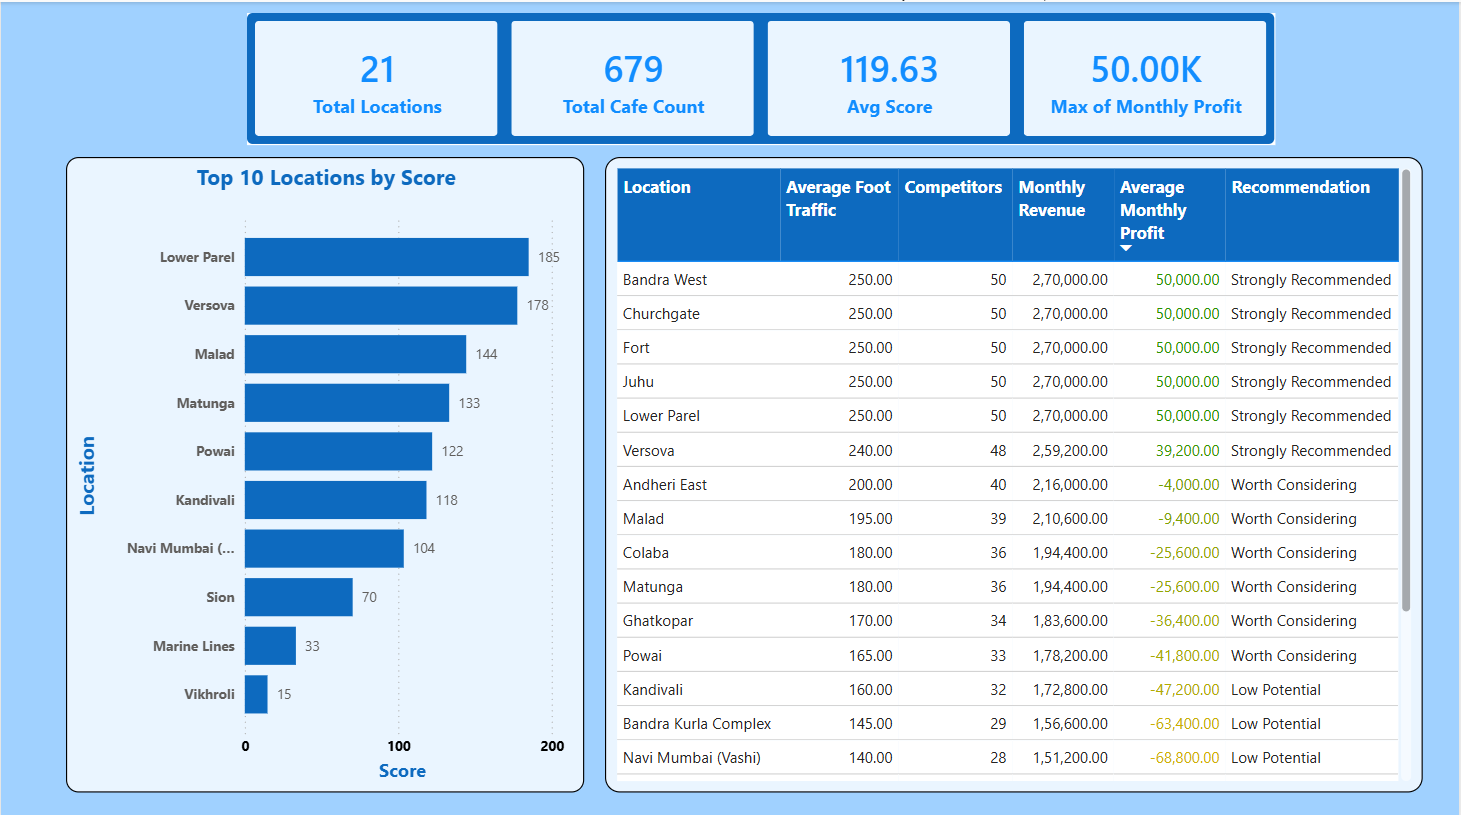

The dashboard page shown, as its layout file describes it:
{"tool":"powerbi","page":{"name":"Executive Summary","canvas":[1280,720],"ordinal":0},"visuals":[{"type":"cardVisual","fields":{"Data":["Model Sheet.Total Locations","Model Sheet.Total Cafe Count","Model Sheet.Avg Score","Max(Model Sheet.Monthly Profit)"]},"box":[215.9,9.7,902.6,115.7],"z":0},{"type":"clusteredBarChart","title":"Top 10 Locations by Score","fields":{"Category":["Model Sheet.Location"],"Y":["Max(Model Sheet.Score)"]},"box":[57.4,136.2,455.2,558.3],"z":1000},{"type":"tableEx","fields":{"Values":["Model Sheet.Location","Model Sheet.Foot Traffic","Model Sheet.Total Cafe Count","Model Sheet.Monthly Revenue","Model Sheet.Monthly Profit","Model Sheet.Recommendation"]},"box":[530,136,718,558],"z":2000},{"type":"actionButton","box":[0,0,100,40],"z":3000}]}

Visuals, with their boxes in screenshot pixels (x1, y1, x2, y2), scaled from the page's 1280x720 canvas onto the 1461x815 screenshot:
cardVisual - Model Sheet.Total Locations x Model Sheet.Total Cafe Count: (246,11,1277,142)
"Top 10 Locations by Score" clusteredBarChart: (66,154,585,786)
tableEx - Model Sheet.Location x Model Sheet.Foot Traffic: (605,154,1424,786)
actionButton: (0,0,114,45)
